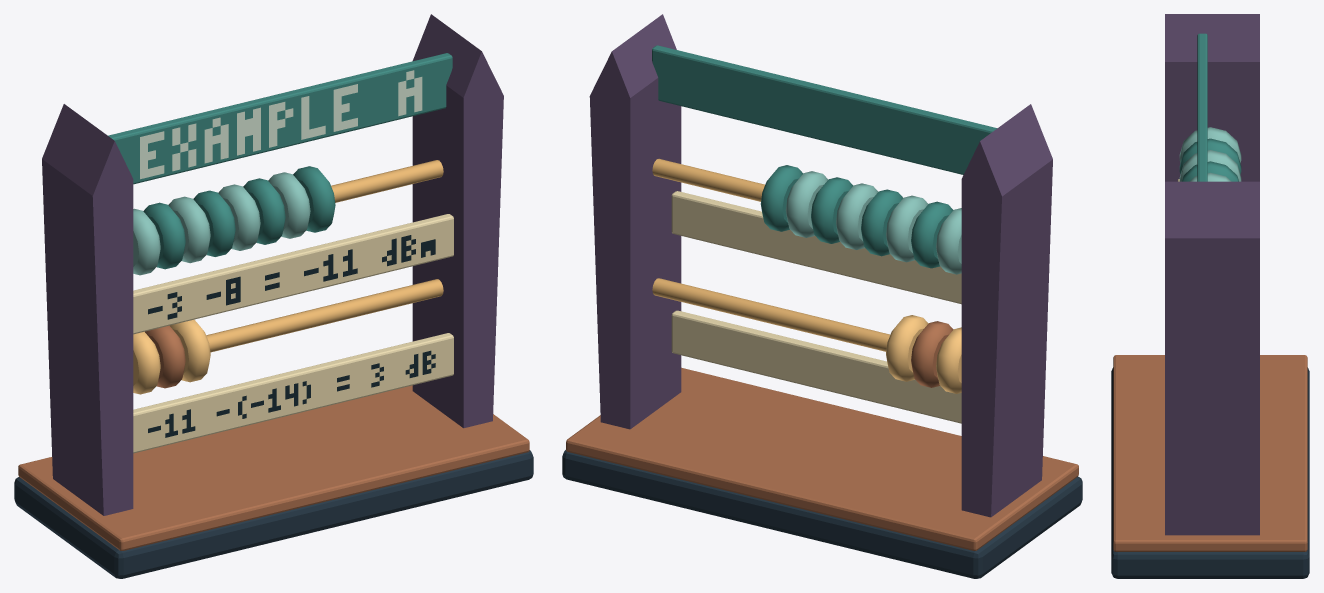
The picture shows the model from 3 angles, left to right: view 1: azimuth 30°, elevation 25°; view 2: azimuth 150°, elevation 25°; view 3: azimuth 270°, elevation 25°; orthographic projection. The views are drawn at different scales.
Visible parts, largest first — view 1: PR059 enamel and hardware; view 2: PR059 enamel and hardware; view 3: PR059 enamel and hardware.
Part boxes in pixels (x1,y1,x2,y2): PR059 enamel and hardware: (14, 14, 533, 578); PR059 enamel and hardware: (562, 14, 1082, 578); PR059 enamel and hardware: (1111, 14, 1309, 578).
Bounding box in the file's own units: 1.16 × 1.1 × 0.5093.
